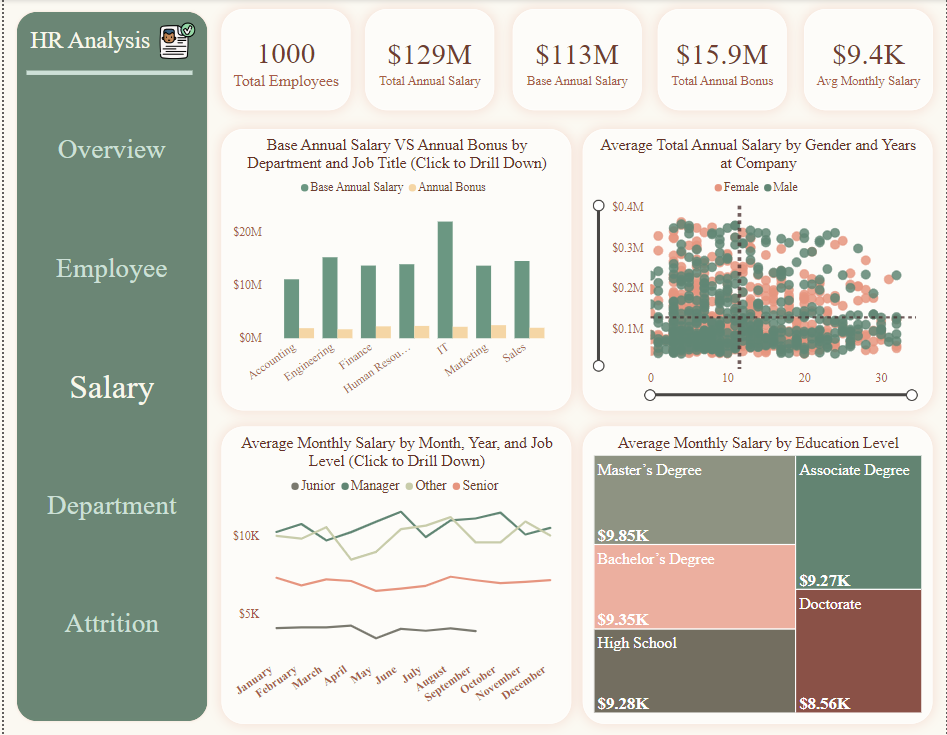

This screenshot's page, from the dashboard's own definition file:
{"tool":"powerbi","page":{"name":"Salary","canvas":[1280,1000],"ordinal":2},"visuals":[{"type":"shape","box":[13.6,13.6,266.6,971.5],"z":0},{"type":"textbox","box":[30,31.9,244.8,50.1],"z":0,"group":"g1"},{"type":"image","box":[186.1,27.2,97,59.4],"z":1000,"group":"g1"},{"type":"clusteredColumnChart","title":"Base Annual Salary VS Annual Bonus by Department and Job Title (Click to Drill Down)","fields":{"Category":["Department.Department","Jobs.Job _Title"],"Y":["Sum(Employee_Data.Annual _Salary)","Sum(Employee_Data.BonusofSalary)"]},"box":[295.5,176.6,475.5,382.1],"z":1000},{"type":"pageNavigator","box":[34,108.7,225.9,818.6],"z":2000},{"type":"group","id":"g1","title":"Group 1","box":[30,27.2,253.1,59.4],"z":3000},{"type":"shape","box":[30,86,225.9,27.2],"z":4000},{"type":"card","fields":{"Values":["All_Measures.TotalEmployees"]},"box":[295.5,13,174.9,137.6],"z":5000},{"type":"areaChart","title":"Average Monthly Salary by Month, Year, and Job Level (Click to Drill Down)","fields":{"Category":["Employee_Data.Hire_ Date.Variation.Date Hierarchy.Month","Employee_Data.Hire_ Date.Variation.Date Hierarchy.Year"],"Y":["Avg(Employee_Data.Monthly_Salary)"],"Series":["Employee_Data.Job_Level"]},"box":[295.5,580.8,475,404.2],"z":6000},{"type":"card","fields":{"Values":["All_Measures.Total_Annual_SA"]},"box":[490,13,174.9,137.6],"z":7000},{"type":"card","fields":{"Values":["All_Measures.Base_Annual_Salary"]},"box":[691.2,13,174.9,137.6],"z":8000},{"type":"card","fields":{"Values":["All_Measures.Total_Annual_Bonus"]},"box":[888,13,174.9,137.6],"z":9000},{"type":"card","fields":{"Values":["All_Measures.Average_Monthly_Sa"]},"box":[1087,13.6,174.9,137.6],"z":10000},{"type":"treemap","title":"Average Monthly Salary by Education Level","fields":{"Values":["Avg(Employee_Data.Monthly_Salary)"],"Group":["Employee_Data.Education_Level"]},"box":[786.3,580.8,475.5,404.2],"z":11000},{"type":"scatterChart","title":"Average Total Annual Salary by Gender and Years at Company","fields":{"X":["Sum(Employee_Data.Total_Years_AtCompany)"],"Series":["Employee_Data.Gender"],"Y":["Avg(Employee_Data.Total_Salary)"],"Category":["Employee_Data.EEID"]},"box":[786.3,176.6,475.5,382.1],"z":12000}]}

Visuals, with their boxes in screenshot pixels (x1, y1, x2, y2), scaled from the page's 1280x1000 canvas onto the 947x735 screenshot:
shape: rect(10, 10, 207, 724)
textbox: rect(22, 23, 203, 60)
image: rect(138, 20, 209, 64)
"Base Annual Salary VS Annual Bonus by Department and Job Title (Click to Drill Down)" clusteredColumnChart: rect(219, 130, 570, 411)
pageNavigator: rect(25, 80, 192, 682)
"Group 1" group: rect(22, 20, 209, 64)
shape: rect(22, 63, 189, 83)
card - All_Measures.TotalEmployees: rect(219, 10, 348, 111)
"Average Monthly Salary by Month, Year, and Job Level (Click to Drill Down)" areaChart: rect(219, 427, 570, 724)
card - All_Measures.Total_Annual_SA: rect(363, 10, 492, 111)
card - All_Measures.Base_Annual_Salary: rect(511, 10, 641, 111)
card - All_Measures.Total_Annual_Bonus: rect(657, 10, 786, 111)
card - All_Measures.Average_Monthly_Sa: rect(804, 10, 934, 111)
"Average Monthly Salary by Education Level" treemap: rect(582, 427, 934, 724)
"Average Total Annual Salary by Gender and Years at Company" scatterChart: rect(582, 130, 934, 411)
